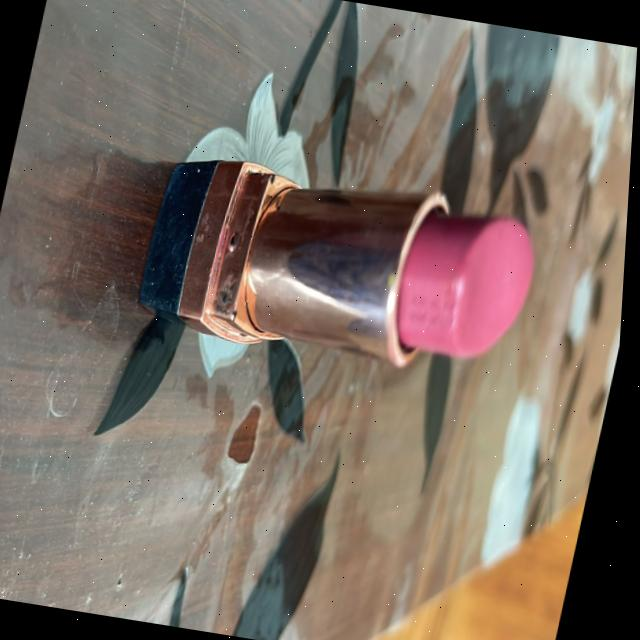lip stick: (118, 108, 580, 432)
